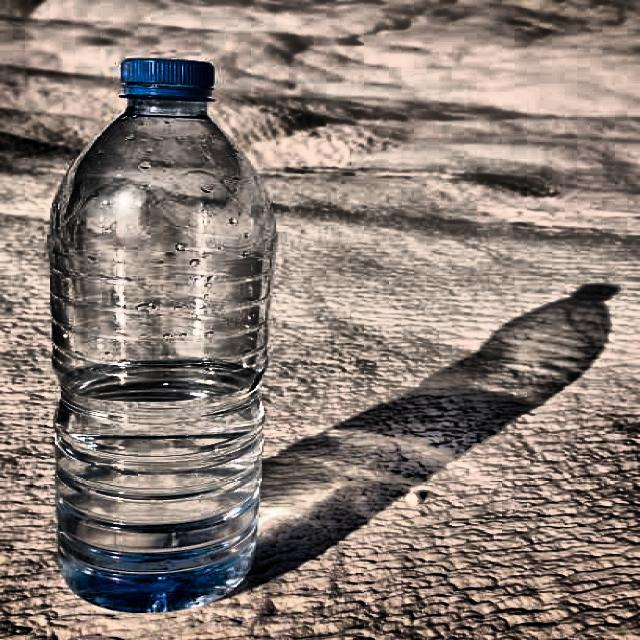Bottles: (51, 51, 272, 622)
